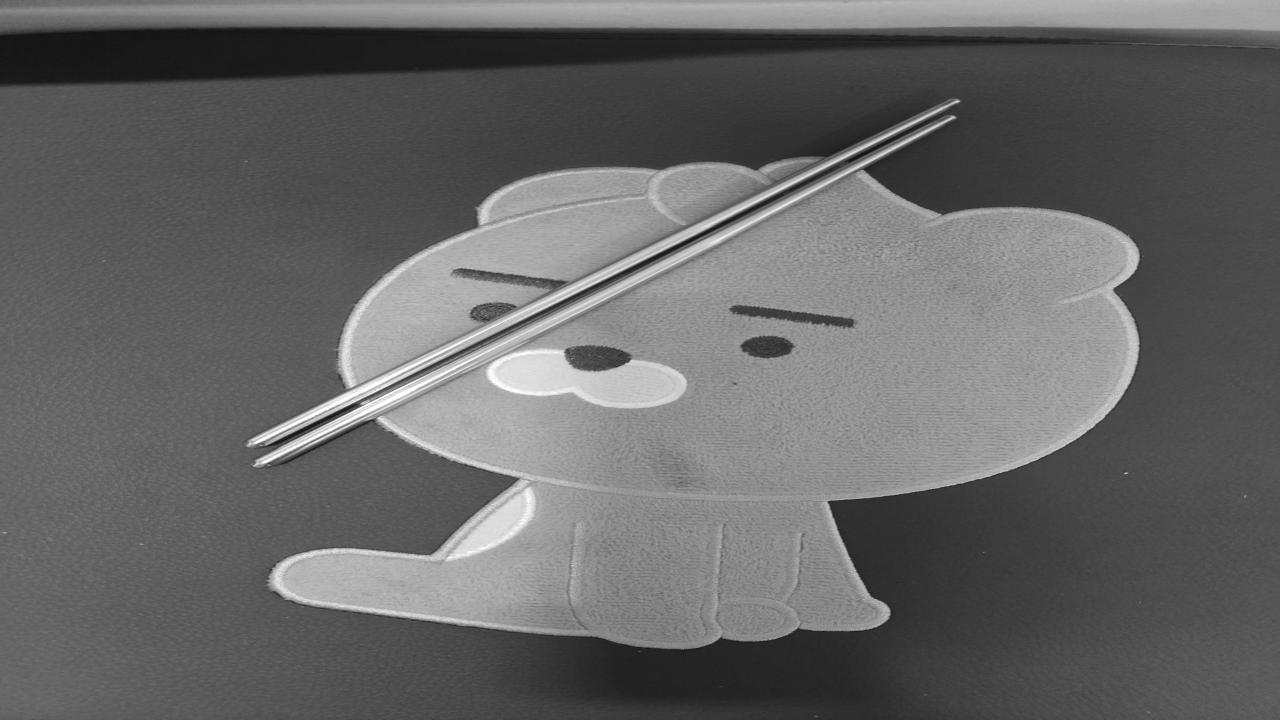chopstick: (254, 100, 958, 468)
